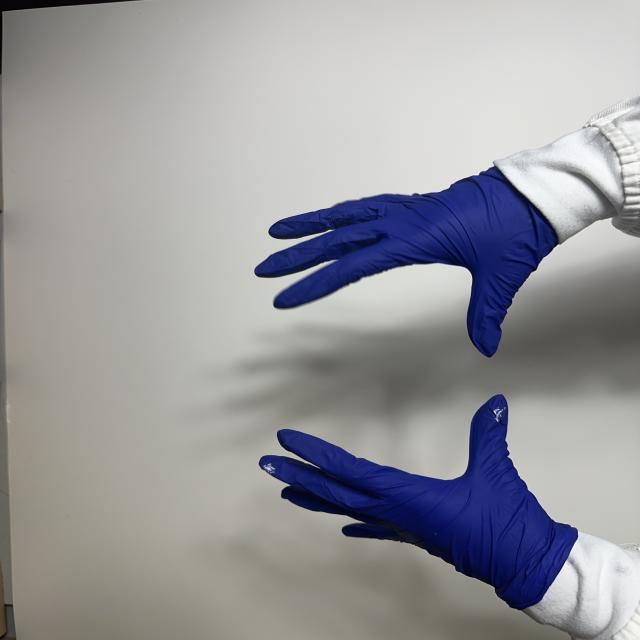glove_on: (255, 168, 558, 356)
gloves_contaminated: (260, 395, 578, 609)
